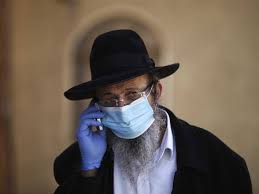with-mask: (75, 29, 170, 143)
